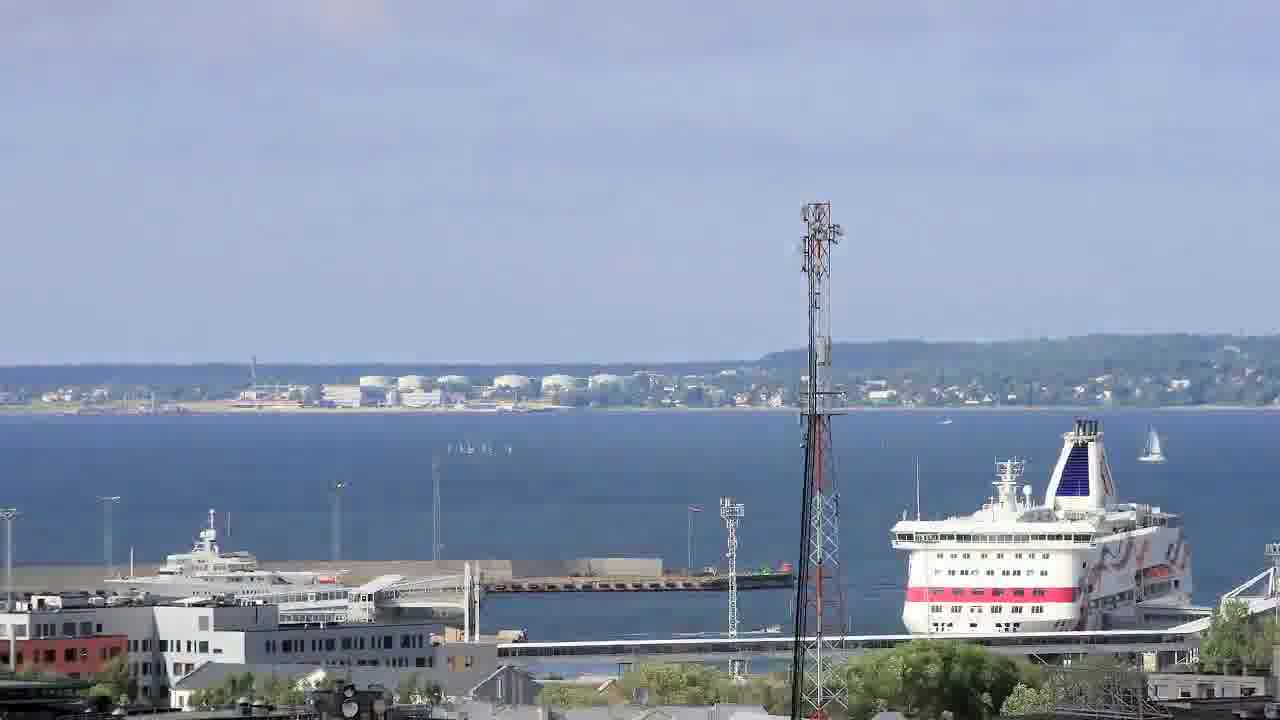type-2: (1128, 425, 1182, 475)
type-3: (868, 415, 1225, 638), (84, 537, 359, 610)
